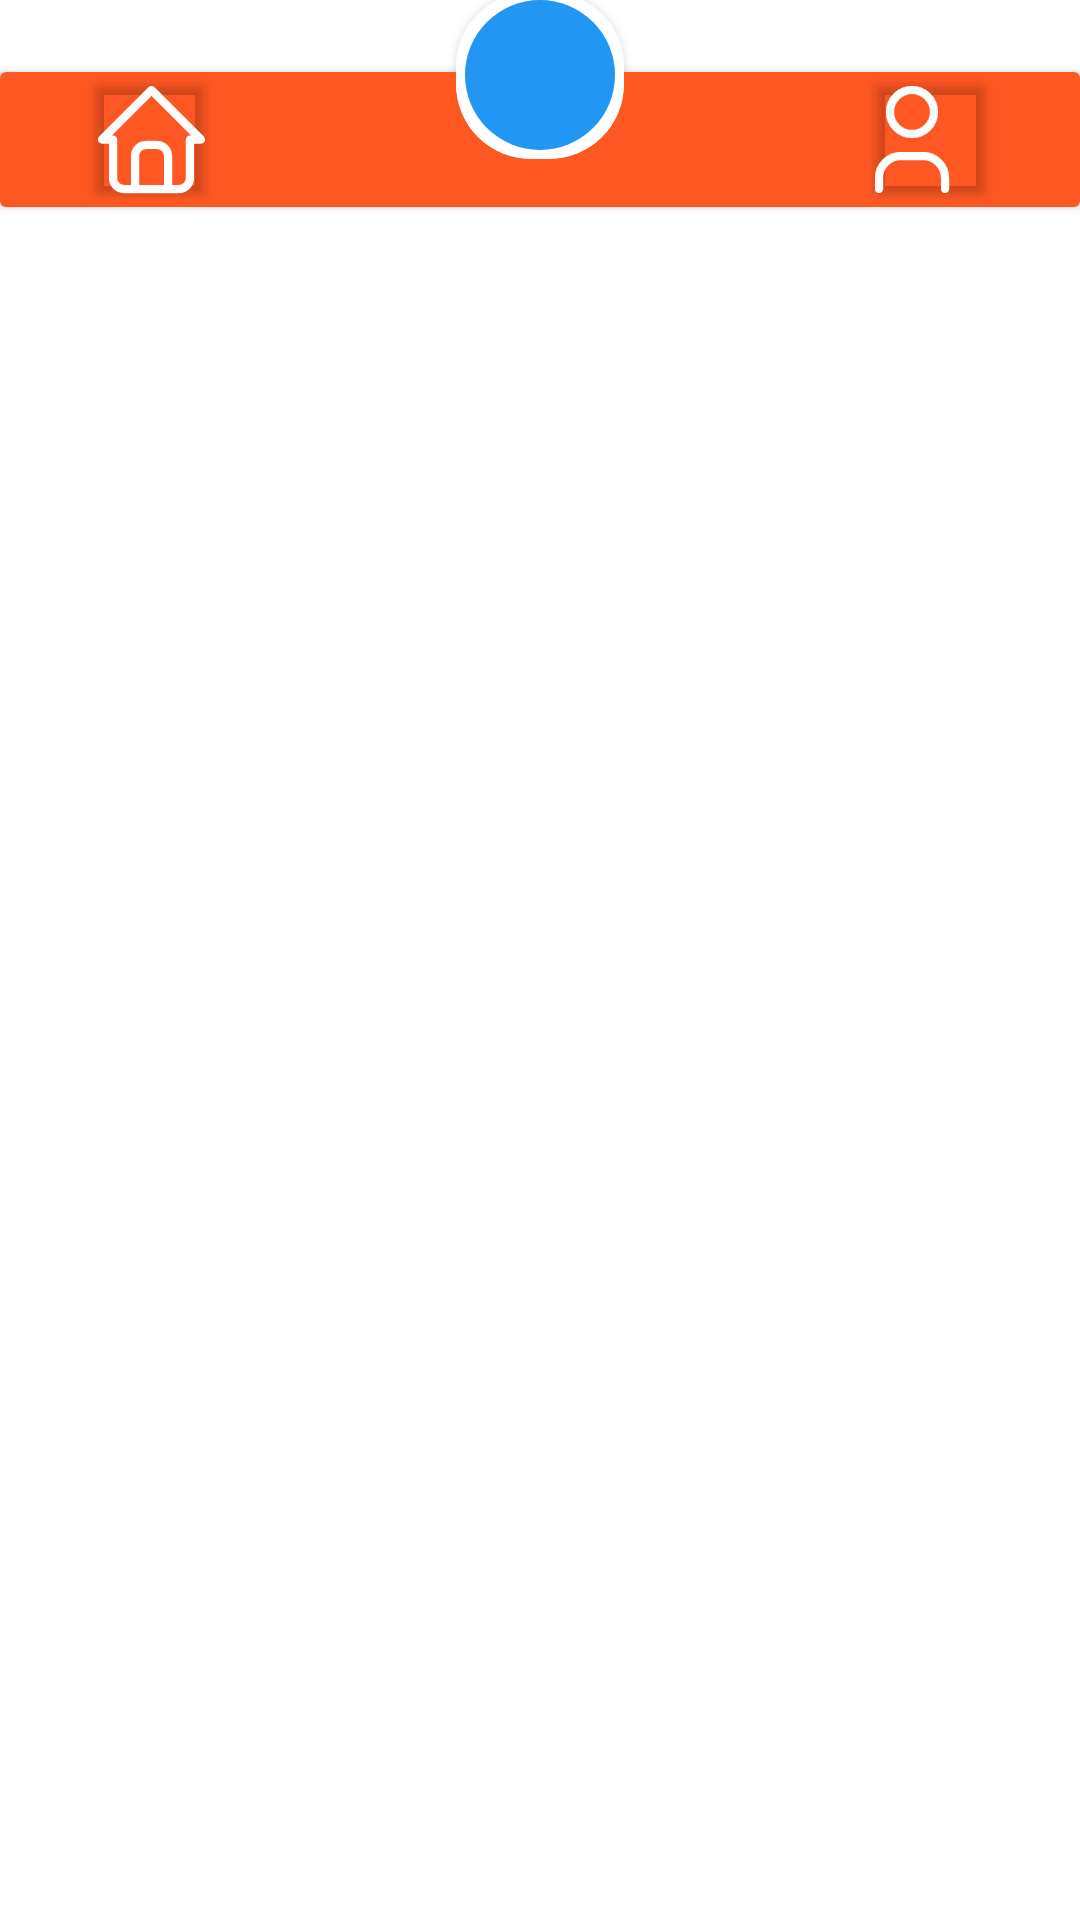

Where to tap for icons on this 1080 x 1920 app screen, as (x,y):
home: (150,139)
profile: (913,140)
